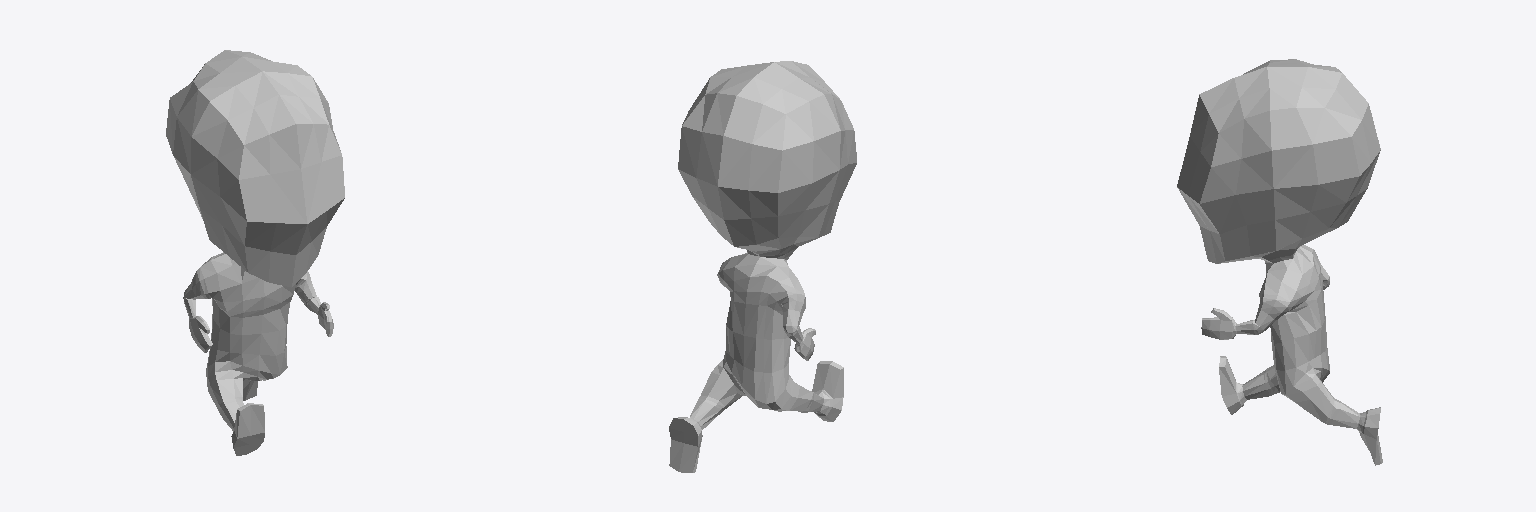
The model's file is char_000006.obj.
3 renders of one model, left to right at view 1: azimuth 30°, elevation 25°; view 2: azimuth 150°, elevation 25°; view 3: azimuth 270°, elevation 25°, orthographic.
Parts seen in each view (by area): view 1: lp_guy_mesh_Cube; view 2: lp_guy_mesh_Cube; view 3: lp_guy_mesh_Cube.
Boxes of the visible parts, x1,y1,x2,y2 form: lp_guy_mesh_Cube: [166, 50, 344, 455]; lp_guy_mesh_Cube: [669, 61, 856, 472]; lp_guy_mesh_Cube: [1177, 59, 1382, 465].
Bounding box in the file's own units: 0.7344 × 1.94 × 0.9546.